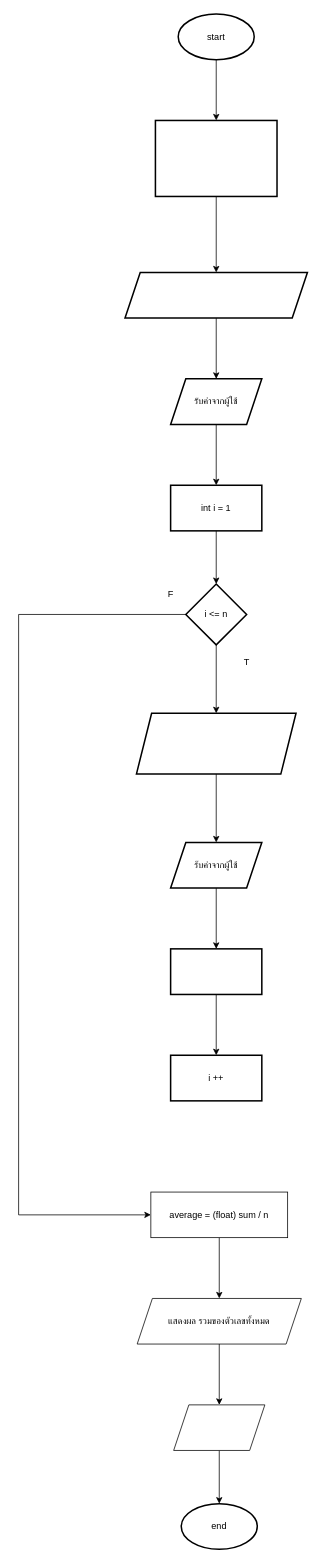
Some shapes in this 321 by 1563 pixel diagram are drawn without their labels. Each missing label, with the centre of its shape:
"sum += number" belongs at point 215,971.
"สร้างตัวแปร int num int n int sum = 0 float average" belongs at point 215,158.
"แสดง Enter Number :" belongs at point 215,743.
"แสดงคำว่า Enter values n :" belongs at point 216,294.
"แสดงค่าเฉลี่ย" belongs at point 219,1427.
